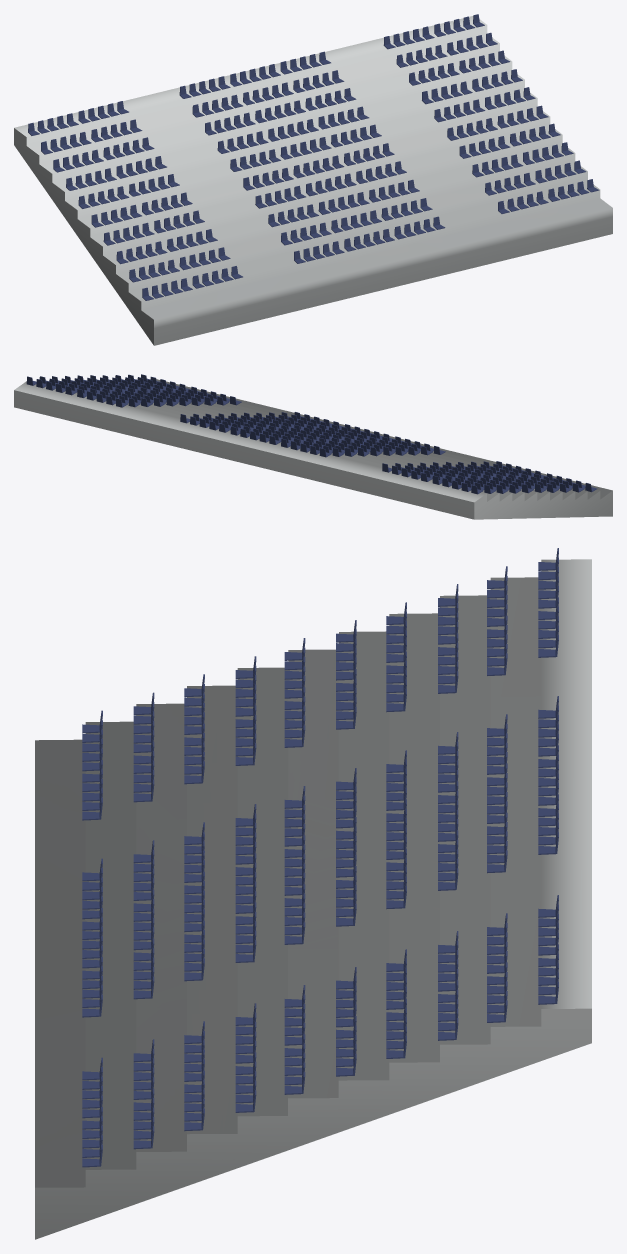
The model's file is seats_hillslope_A.FBX.
3 renders of one model, top to bottom at view 1: azimuth 30°, elevation 25°; view 2: azimuth 150°, elevation 25°; view 3: azimuth 270°, elevation 25°, orthographic. The views are drawn at different scales.
Visible parts, largest first — view 1: seats_hillslope_A; view 2: seats_hillslope_A; view 3: seats_hillslope_A.
Part boxes in pixels (x1,y1,x2,y2): seats_hillslope_A: (14, 14, 612, 345); seats_hillslope_A: (14, 374, 612, 519); seats_hillslope_A: (35, 548, 591, 1239).
Bounding box in the file's own units: 1253 × 324 × 656.
